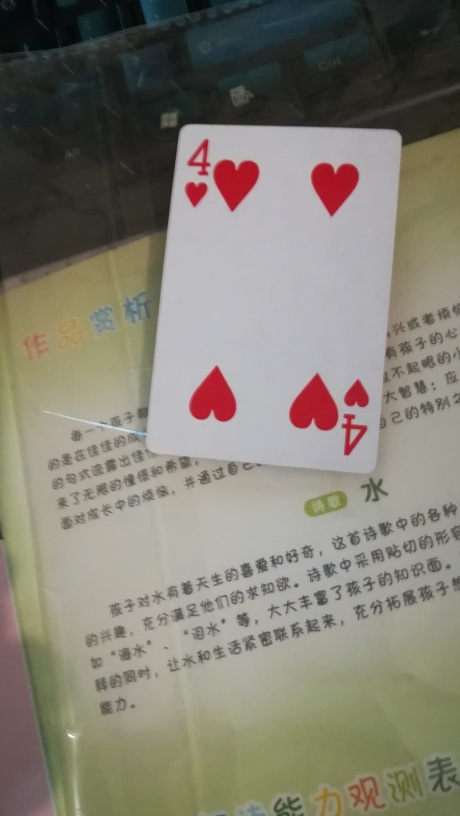hx 4: (149, 121, 402, 475)
